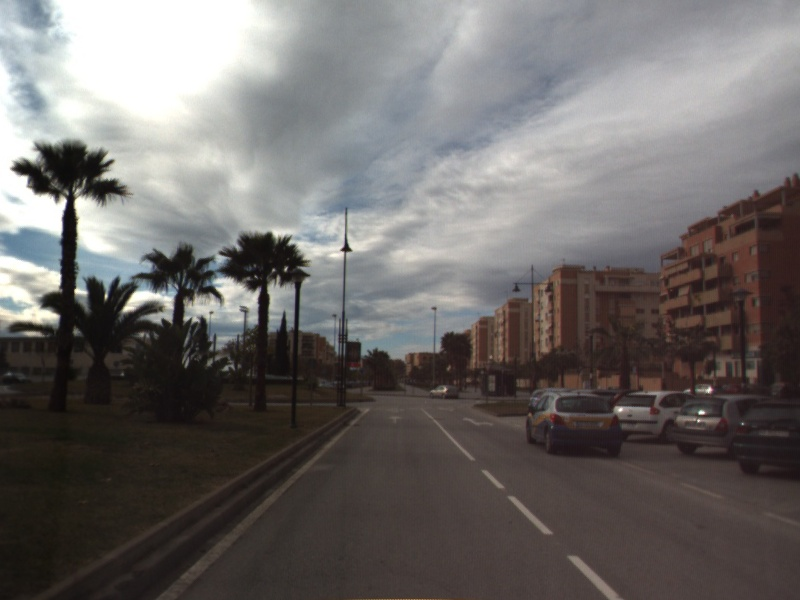STRAIGHT: (386, 414, 405, 426)
STRAIGHT_RIGHT: (461, 415, 496, 428)
